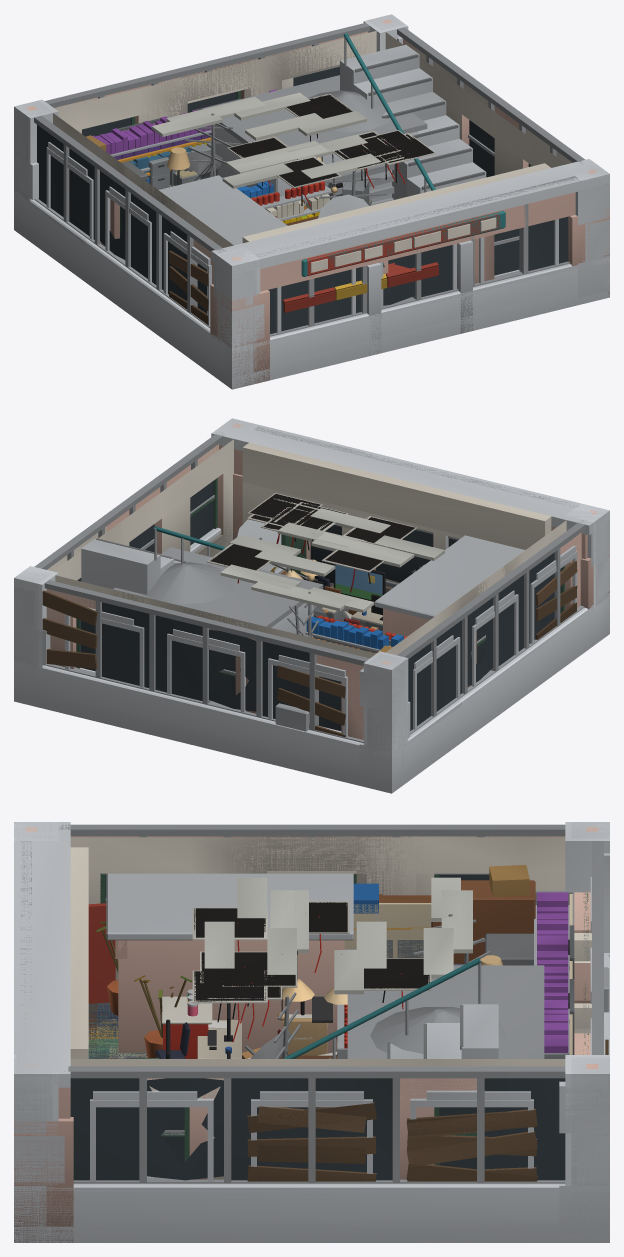
File: interiors.glb
3 views of the same model, one above another, from view 1: azimuth 30°, elevation 25°; view 2: azimuth 150°, elevation 25°; view 3: azimuth 270°, elevation 25° (orthographic). The views are drawn at different scales.
Visible parts, largest first — view 1: Office_FloorIn, Conc_FloorIn, Brick_FloorIn, Brick_ShopIn, Brick_RoofIn, Office_LobbyIn, Office_RoofIn, In_Stair, Room_Grocery, Room_Lobby, Room_Office, Conc_ShopIn (+5 smaller); view 2: Office_FloorIn, Brick_ShopIn, Brick_FloorIn, Conc_FloorIn, Brick_RoofIn, Office_LobbyIn, Office_RoofIn, Room_Grocery, In_Stair, Room_Office, Room_Meeting, Conc_RoofIn (+6 smaller); view 3: Office_FloorIn, Brick_FloorIn, Brick_RoofIn, Conc_FloorIn, Brick_ShopIn, Office_RoofIn, Room_Grocery, Room_Lobby, Room_Bedroom, Room_Meeting, Office_LobbyIn, Room_Toys (+6 smaller).
Part boxes in pixels (x1,y1,x2,y2): Office_FloorIn: (14,14,609,388); Conc_FloorIn: (14,14,609,389); Brick_FloorIn: (14,19,609,382); Brick_ShopIn: (120,90,609,388); Brick_RoofIn: (14,90,609,389); Office_LobbyIn: (82,117,609,355); Office_RoofIn: (14,75,427,386); In_Stair: (340,33,486,199); Room_Grocery: (92,89,400,223); Room_Lobby: (111,98,404,205); Room_Office: (148,113,381,209); Conc_ShopIn: (188,66,505,300); Office_FloorIn: (14,418,609,791); Brick_ShopIn: (81,419,609,737); Brick_FloorIn: (14,423,609,783); Conc_FloorIn: (14,418,609,792); Brick_RoofIn: (14,519,609,793); Office_LobbyIn: (211,419,609,729); Office_RoofIn: (113,547,609,791); Room_Grocery: (258,507,414,653); In_Stair: (81,526,225,594); Room_Office: (255,508,390,630); Room_Meeting: (220,493,360,625); Conc_RoofIn: (18,563,591,754); Office_FloorIn: (14,822,609,1242); Brick_FloorIn: (14,827,609,1233); Brick_RoofIn: (14,873,609,1242); Conc_FloorIn: (14,822,609,1242); Brick_ShopIn: (14,823,588,1242); Office_RoofIn: (16,913,609,1242); Room_Grocery: (89,883,572,1058); Room_Lobby: (88,877,574,1058); Room_Bedroom: (88,865,535,1058); Room_Meeting: (88,928,453,1058); Office_LobbyIn: (14,822,588,1181); Room_Toys: (88,890,572,1058).
Bounding box in the file's own units: 4 × 1.65 × 4.
